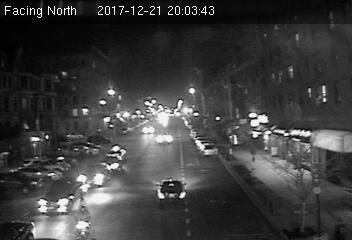car: (37, 176, 84, 213), (156, 177, 187, 204), (78, 162, 110, 185), (107, 145, 127, 160), (199, 143, 219, 156), (155, 133, 174, 143)
